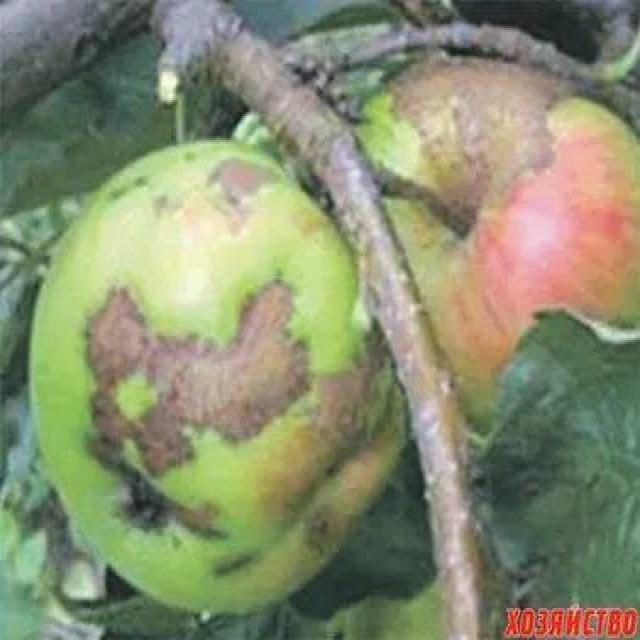Rotten: (65, 142, 385, 582)
